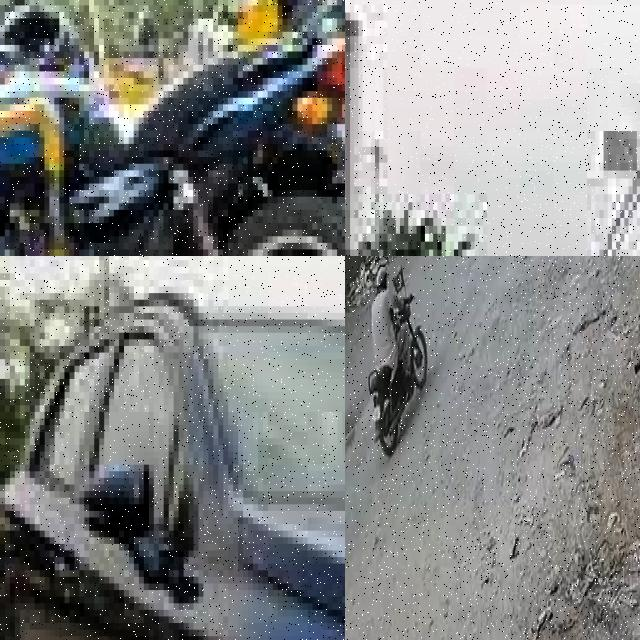bike: (0, 18, 345, 256), (369, 294, 427, 454)
car: (0, 273, 345, 640), (345, 0, 640, 256)
